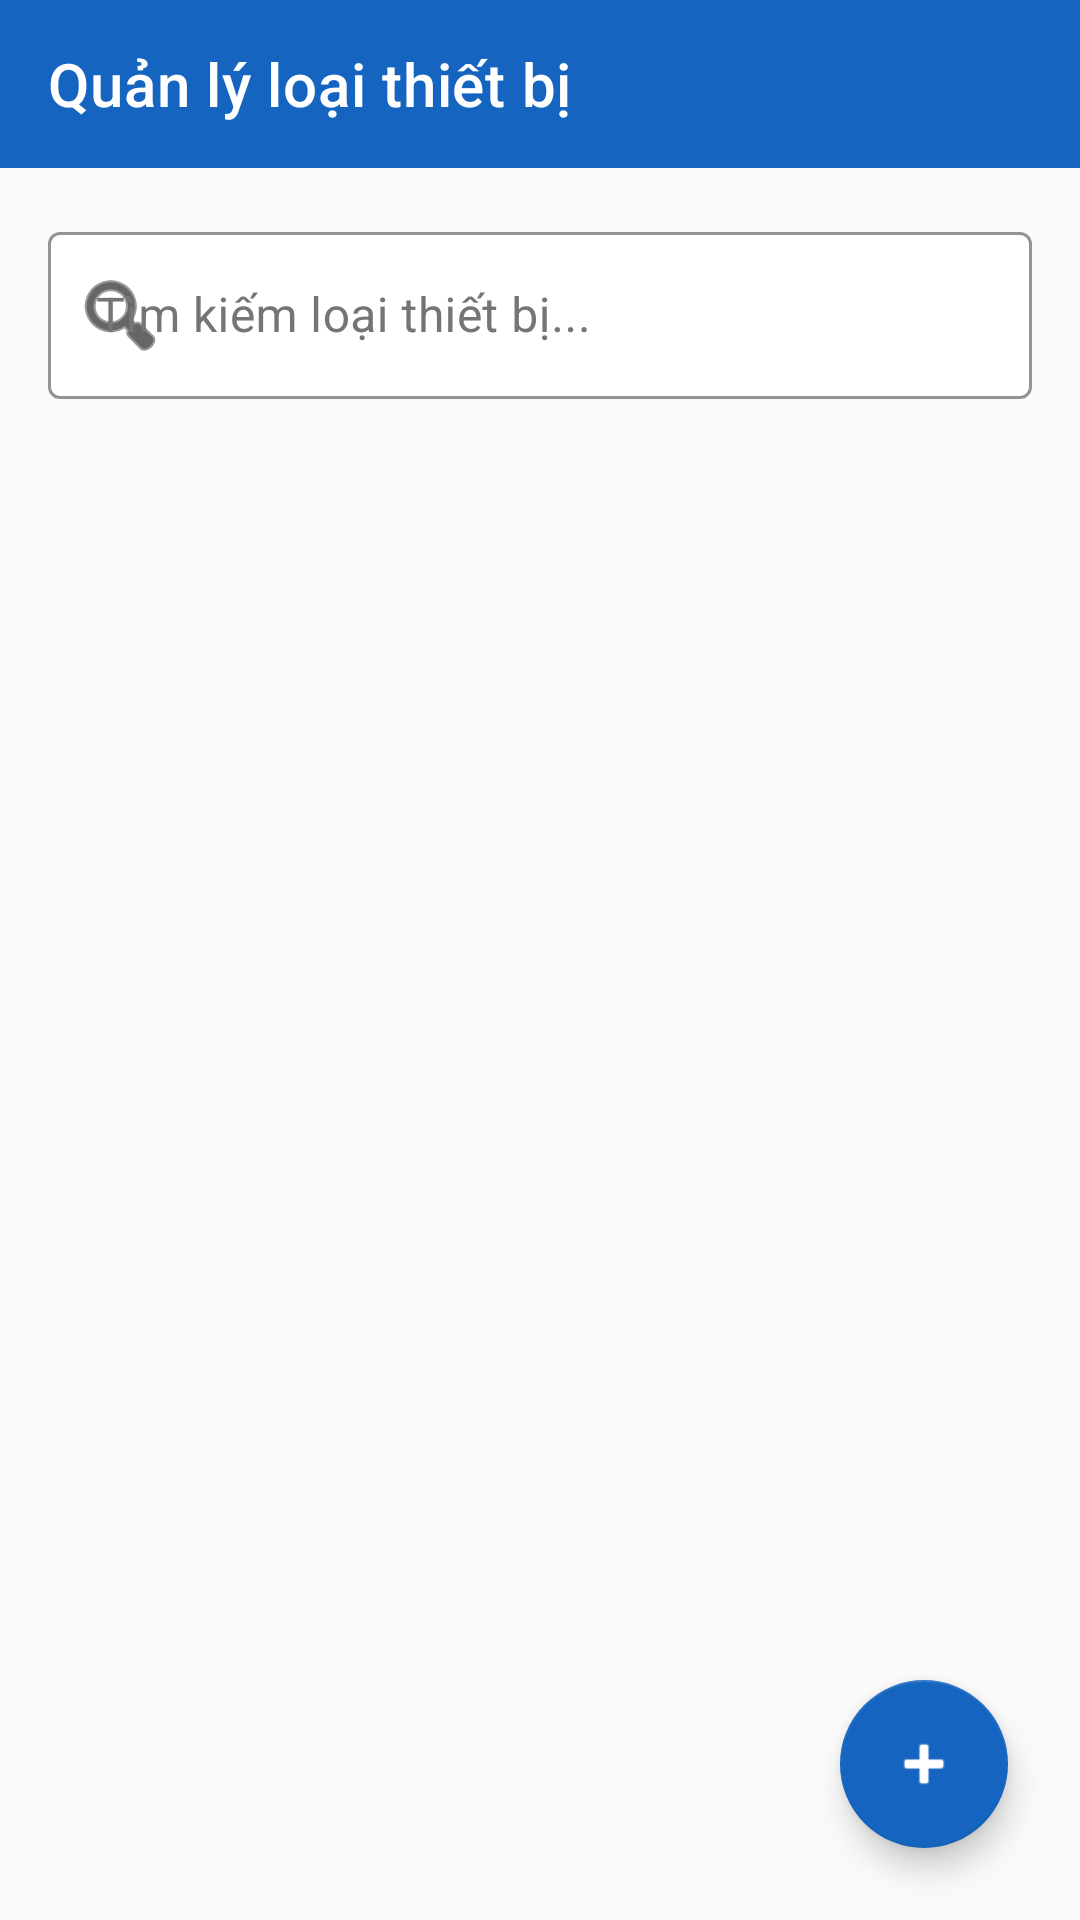

Icons on this 1080w x 1920h Android screen, each with the point to tap as (x,y):
Thêm loại thiết bị: (924,1764)
